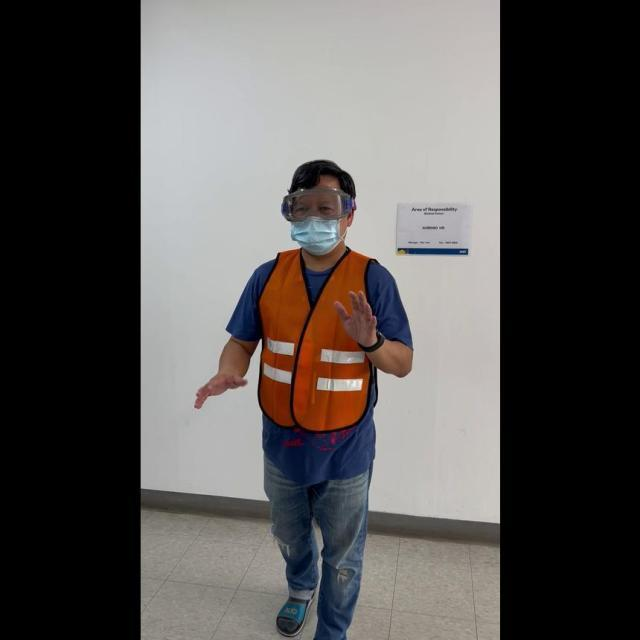bare_hand: (332, 282, 382, 351), (191, 365, 248, 410)
